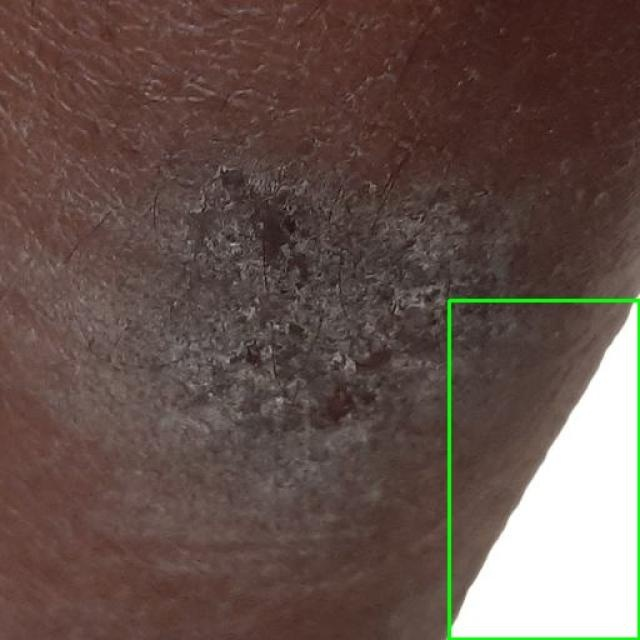Contact Dermatitis: (449, 300, 639, 639)
